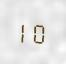one: (19, 19, 31, 43)
zero: (32, 19, 44, 44)
